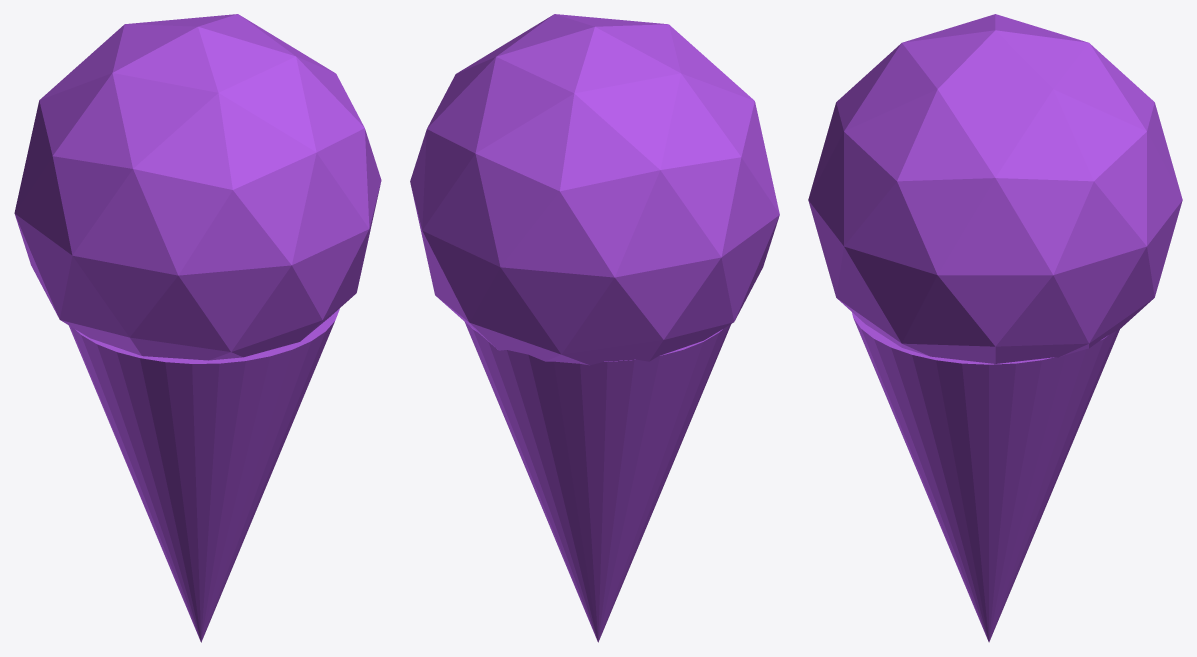
The model's file is pin-purple.glb.
The picture shows the model from 3 angles, left to right: view 1: azimuth 30°, elevation 25°; view 2: azimuth 150°, elevation 25°; view 3: azimuth 270°, elevation 25°; orthographic projection.
Visible parts, largest first — view 1: Icosphere, Cone; view 2: Icosphere, Cone; view 3: Icosphere, Cone.
Part boxes in pixels (<box>): Icosphere: <box>14,14,381,360</box>; Cone: <box>69,309,339,642</box>; Icosphere: <box>410,14,779,365</box>; Cone: <box>465,322,731,642</box>; Icosphere: <box>808,14,1182,363</box>; Cone: <box>852,312,1119,642</box>.
Size of the model in its own units: 0.0881 by 0.1673 by 0.0927.
